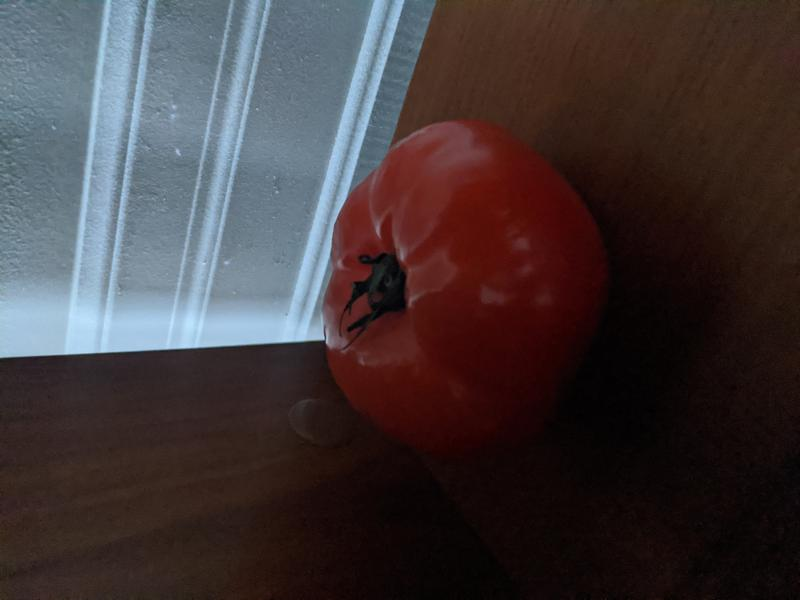tomato: (321, 118, 611, 457)
